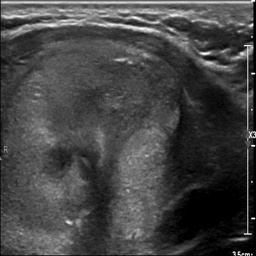mass: (11, 37, 179, 252)
